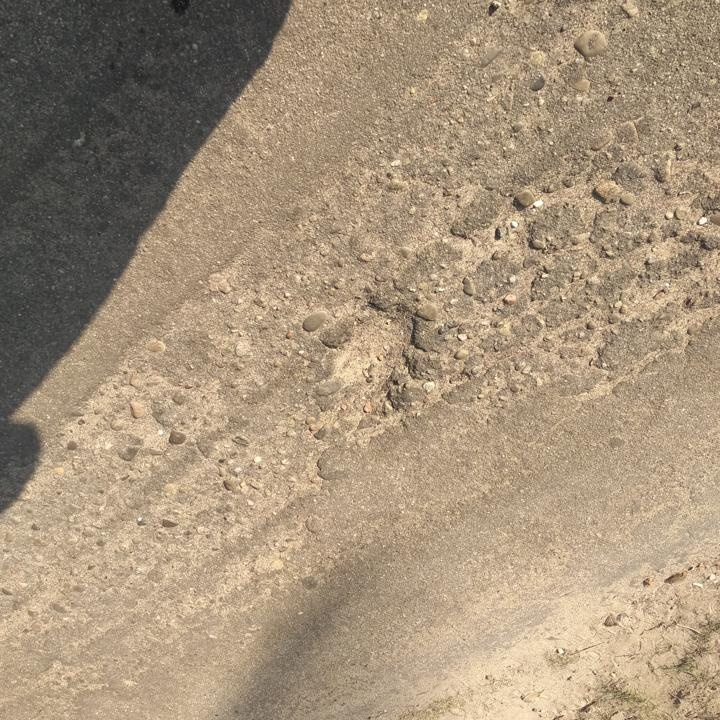pothole: (333, 298, 424, 405)
